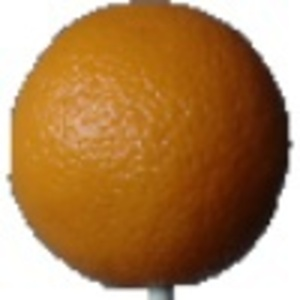laranja: (3, 3, 298, 295)
